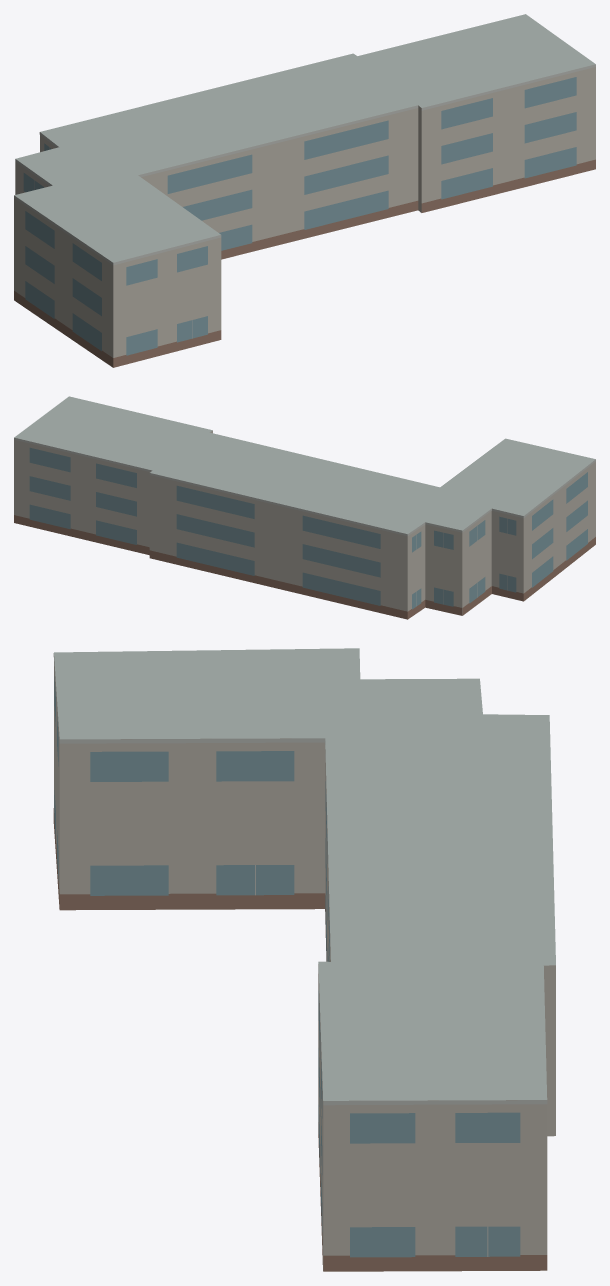
Rendered from survey-upis-32984155.glb.
3 renders of one model, top to bottom at view 1: azimuth 30°, elevation 25°; view 2: azimuth 150°, elevation 25°; view 3: azimuth 270°, elevation 25°, orthographic. The views are drawn at different scales.
Parts seen in each view (by area): view 1: survey-upis-32984155.tmp; view 2: survey-upis-32984155.tmp; view 3: survey-upis-32984155.tmp.
Boxes of the visible parts, x1,y1,x2,y2 form: survey-upis-32984155.tmp: (14,14,595,367); survey-upis-32984155.tmp: (14,396,595,619); survey-upis-32984155.tmp: (53,648,555,1271).
Size of the model in its own units: 55.15 by 9.7 by 25.87.
